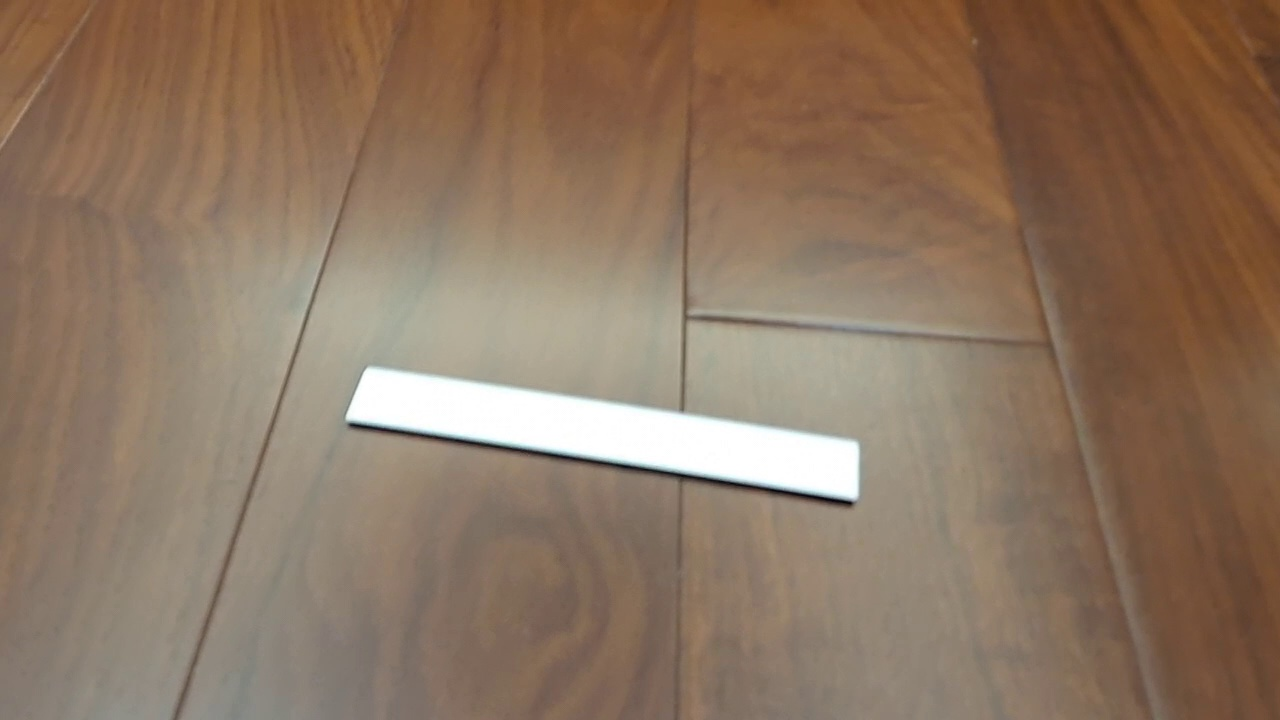ruler: (344, 364, 861, 504)
